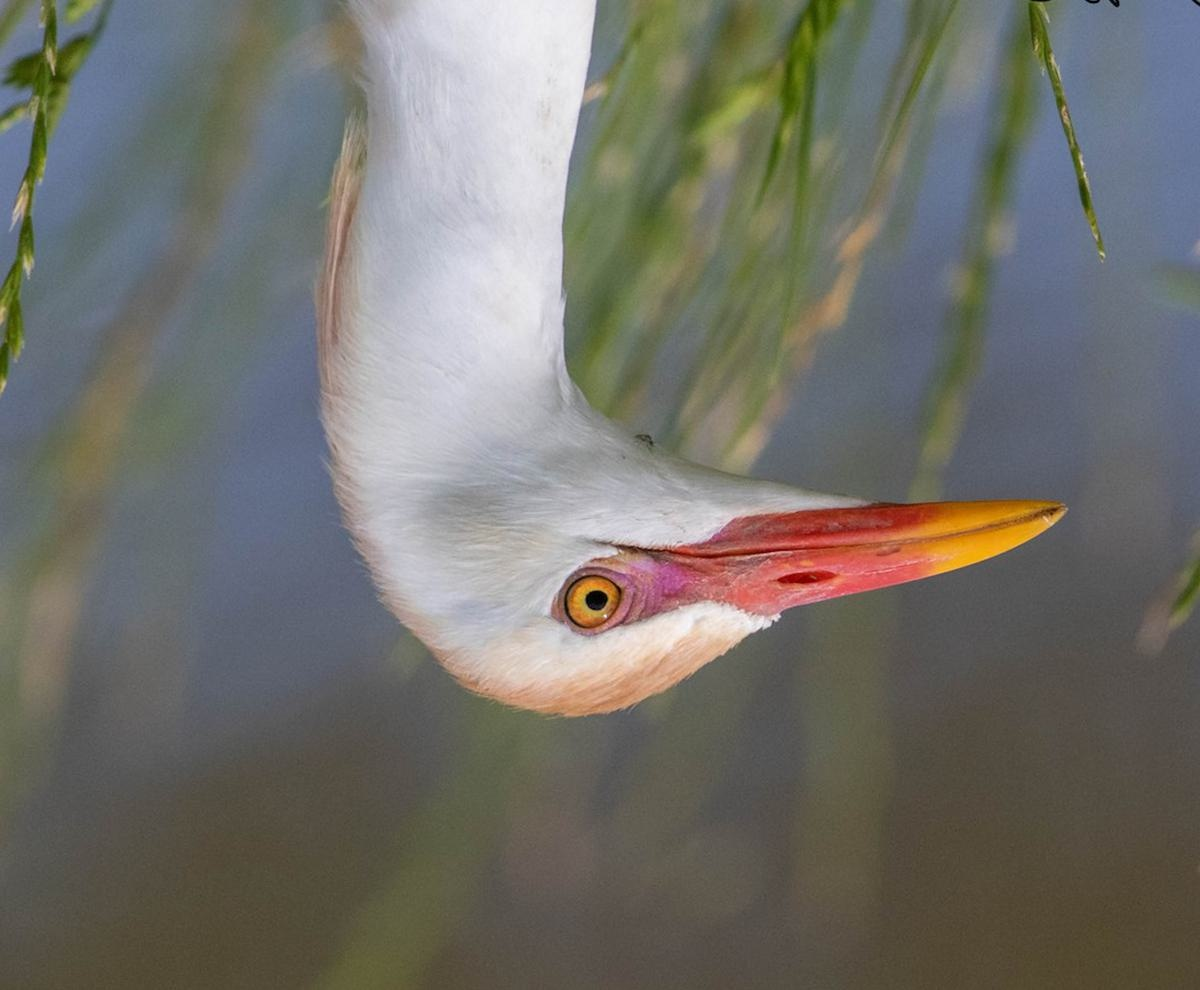egret: (161, 1, 1075, 728)
